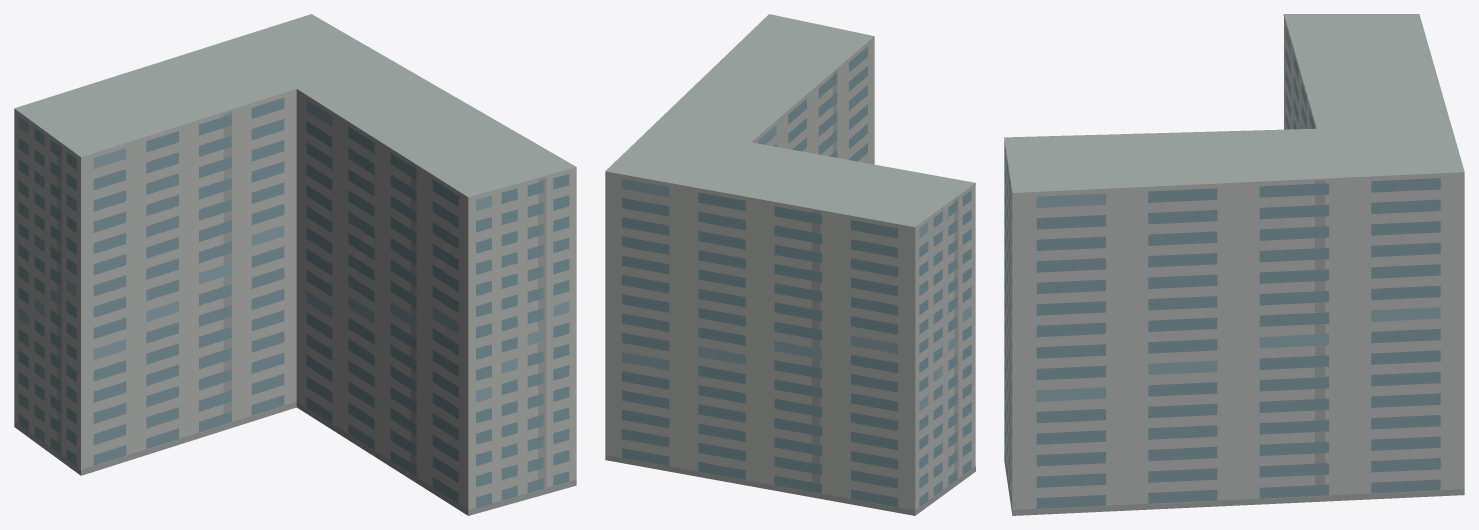
The model's file is residential-8fa2271a-226c-43c4-8b06-6918d6133436.glb.
3 renders of one model, left to right at view 1: azimuth 30°, elevation 25°; view 2: azimuth 150°, elevation 25°; view 3: azimuth 270°, elevation 25°, orthographic. The views are drawn at different scales.
Visible parts, largest first — view 1: residential-8fa2271a-226c-43c4-8b06-6918d6133436.tmp; view 2: residential-8fa2271a-226c-43c4-8b06-6918d6133436.tmp; view 3: residential-8fa2271a-226c-43c4-8b06-6918d6133436.tmp.
Part boxes in pixels (left/top/right/bottom): residential-8fa2271a-226c-43c4-8b06-6918d6133436.tmp: left=14, top=14, right=576, bottom=515; residential-8fa2271a-226c-43c4-8b06-6918d6133436.tmp: left=605, top=14, right=975, bottom=515; residential-8fa2271a-226c-43c4-8b06-6918d6133436.tmp: left=1004, top=14, right=1464, bottom=515.
Size of the model in its own units: 48.76 by 41 by 53.
